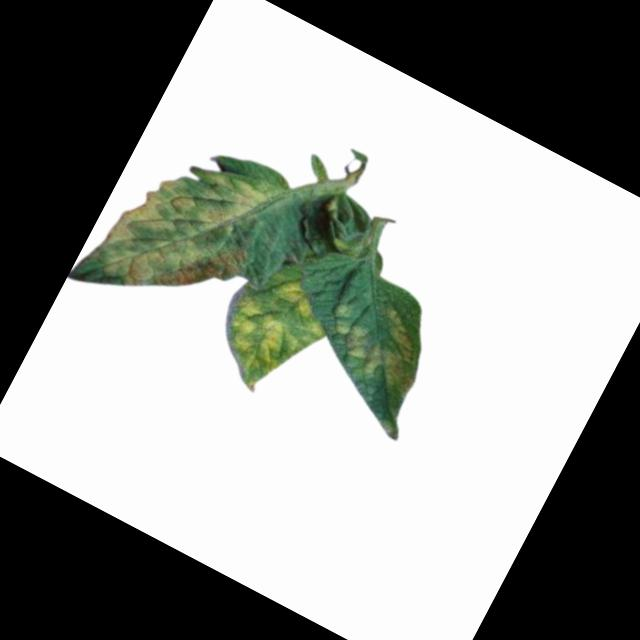Leaf_Mold: (79, 122, 285, 331), (201, 257, 340, 404), (316, 285, 440, 399)
